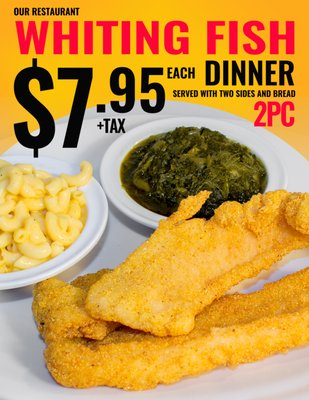curry: (111, 125, 268, 226)
sushi: (99, 115, 269, 232), (0, 158, 109, 291)
